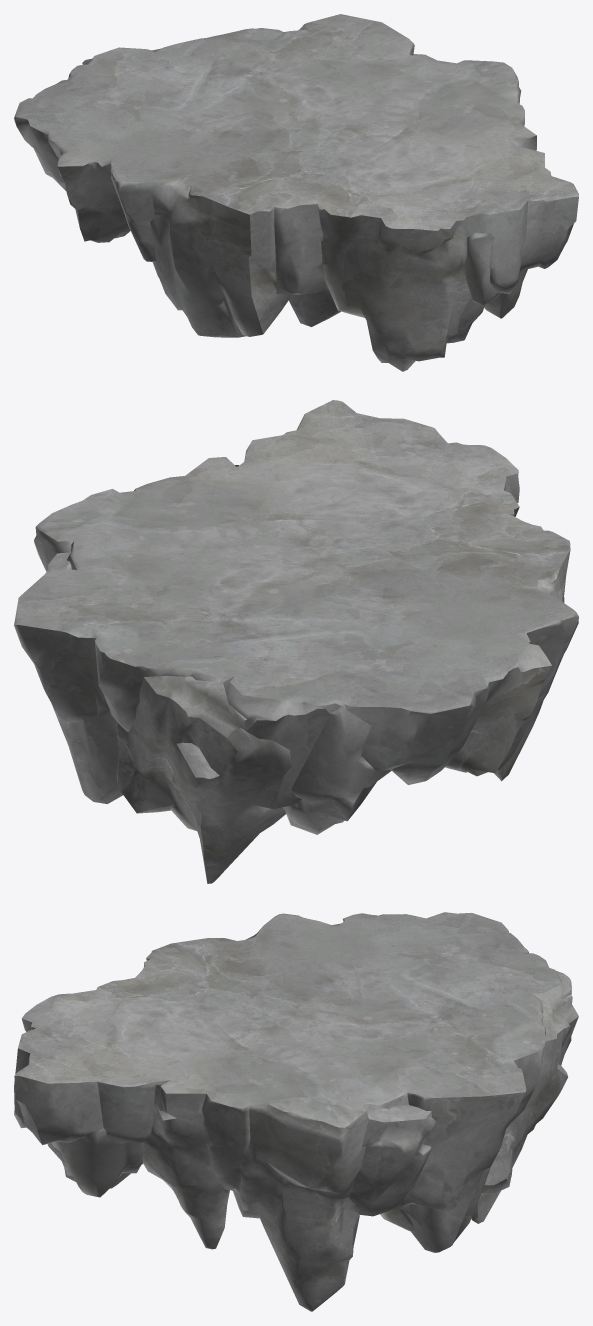
The model's file is SM_Com_Roc_17AS.fbx.
The picture shows the model from 3 angles, top to bottom: view 1: azimuth 30°, elevation 25°; view 2: azimuth 150°, elevation 25°; view 3: azimuth 270°, elevation 25°; orthographic projection. The views are drawn at different scales.
Parts seen in each view (by area): view 1: SM_Com_Roc_17AS.mo; view 2: SM_Com_Roc_17AS.mo; view 3: SM_Com_Roc_17AS.mo.
Boxes of the visible parts, x1,y1,x2,y2 form: SM_Com_Roc_17AS.mo: (14, 14, 578, 371); SM_Com_Roc_17AS.mo: (14, 400, 578, 883); SM_Com_Roc_17AS.mo: (14, 912, 578, 1311).
Bounding box in the file's own units: 22.47 × 11.13 × 24.58.
